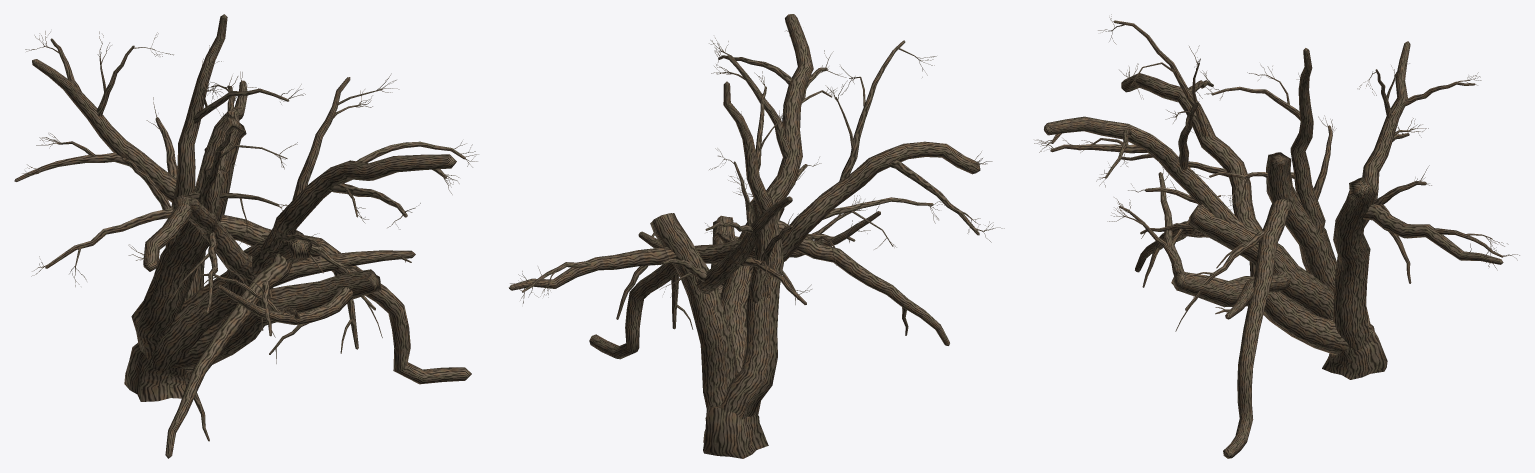
File: dead_standing-a.lod0.glb
3 renders of one model, left to right at view 1: azimuth 30°, elevation 25°; view 2: azimuth 150°, elevation 25°; view 3: azimuth 270°, elevation 25°, orthographic. The views are drawn at different scales.
Visible parts, largest first — view 1: bark; view 2: bark; view 3: bark.
Part boxes in pixels (left/top/right/bottom): bark: left=14, top=14, right=478, bottom=458; bark: left=508, top=14, right=1004, bottom=458; bark: left=1034, top=14, right=1519, bottom=458.
Bounding box in the file's own units: 10.52 × 8.5 × 11.3.
1 material, 1 textured.
